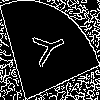Y: (24, 25, 68, 72)
